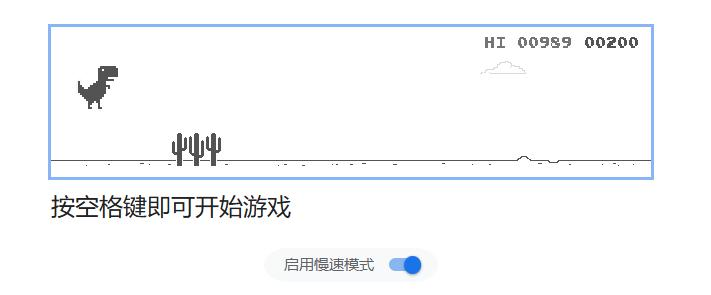cactus: (170, 132, 223, 167)
dino: (76, 65, 118, 110)
